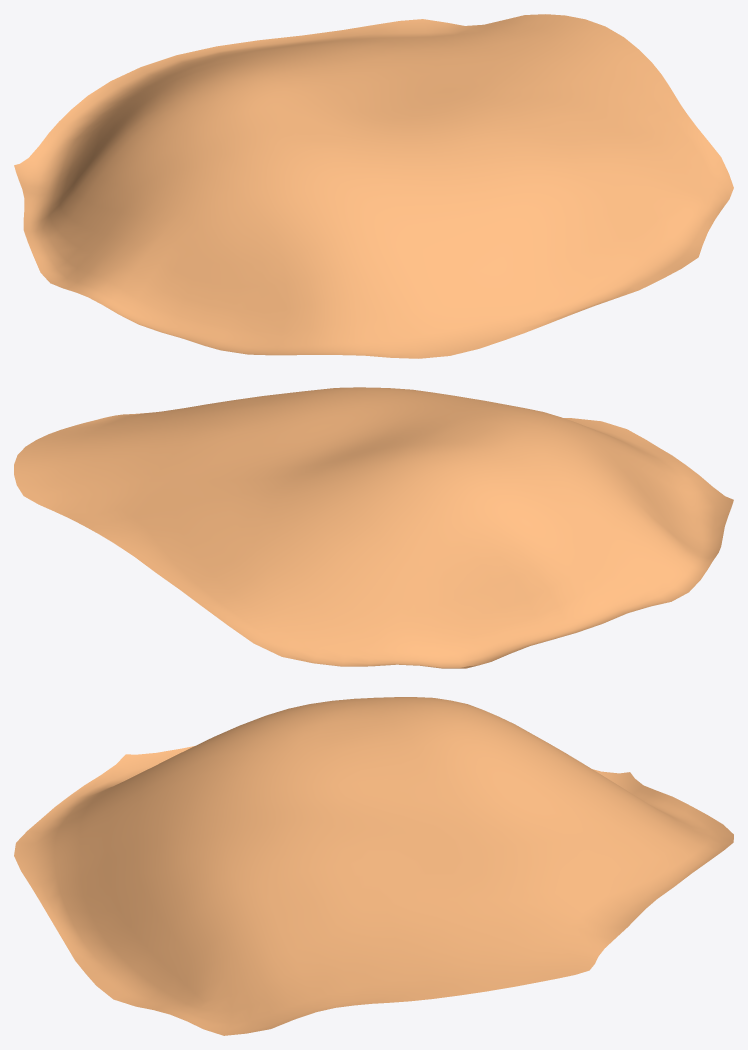
File: ada_zemin02.FBX
3 views of the same model, one above another, from view 1: azimuth 30°, elevation 25°; view 2: azimuth 150°, elevation 25°; view 3: azimuth 270°, elevation 25° (orthographic). The views are drawn at different scales.
Visible parts, largest first — view 1: Object002; view 2: Object002; view 3: Object002.
Part boxes in pixels (x1=…): Object002: x1=14, y1=14, x2=733, y2=358; Object002: x1=14, y1=387, x2=733, y2=668; Object002: x1=14, y1=697, x2=733, y2=1035.
Bounding box in the file's own units: 3491 × 682 × 3340.
Materials: 1 (1 with a texture image).
